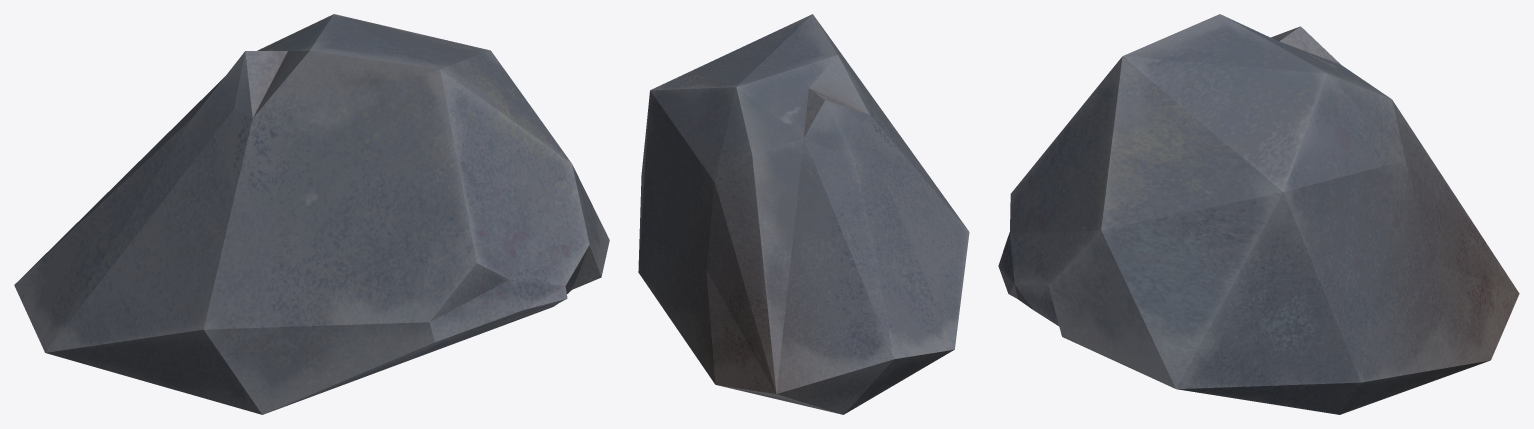
File: stylized_rock_21.fbx
3 views of the same model, side by side, from view 1: azimuth 30°, elevation 25°; view 2: azimuth 150°, elevation 25°; view 3: azimuth 270°, elevation 25° (orthographic). The views are drawn at different scales.
Visible parts, largest first — view 1: stylized_rock_21; view 2: stylized_rock_21; view 3: stylized_rock_21.
Boxes of the visible parts, bbox=[...] form: stylized_rock_21: bbox=[14, 14, 609, 414]; stylized_rock_21: bbox=[638, 14, 969, 414]; stylized_rock_21: bbox=[998, 14, 1519, 414].
Size of the model in its own units: 84.38 by 58.65 by 78.61.
